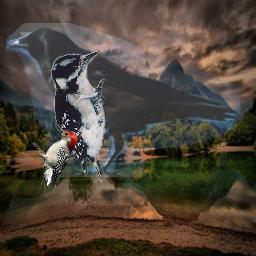Crow: (6, 23, 240, 177)
Woodpecker: (51, 51, 109, 184), (30, 123, 79, 195)
